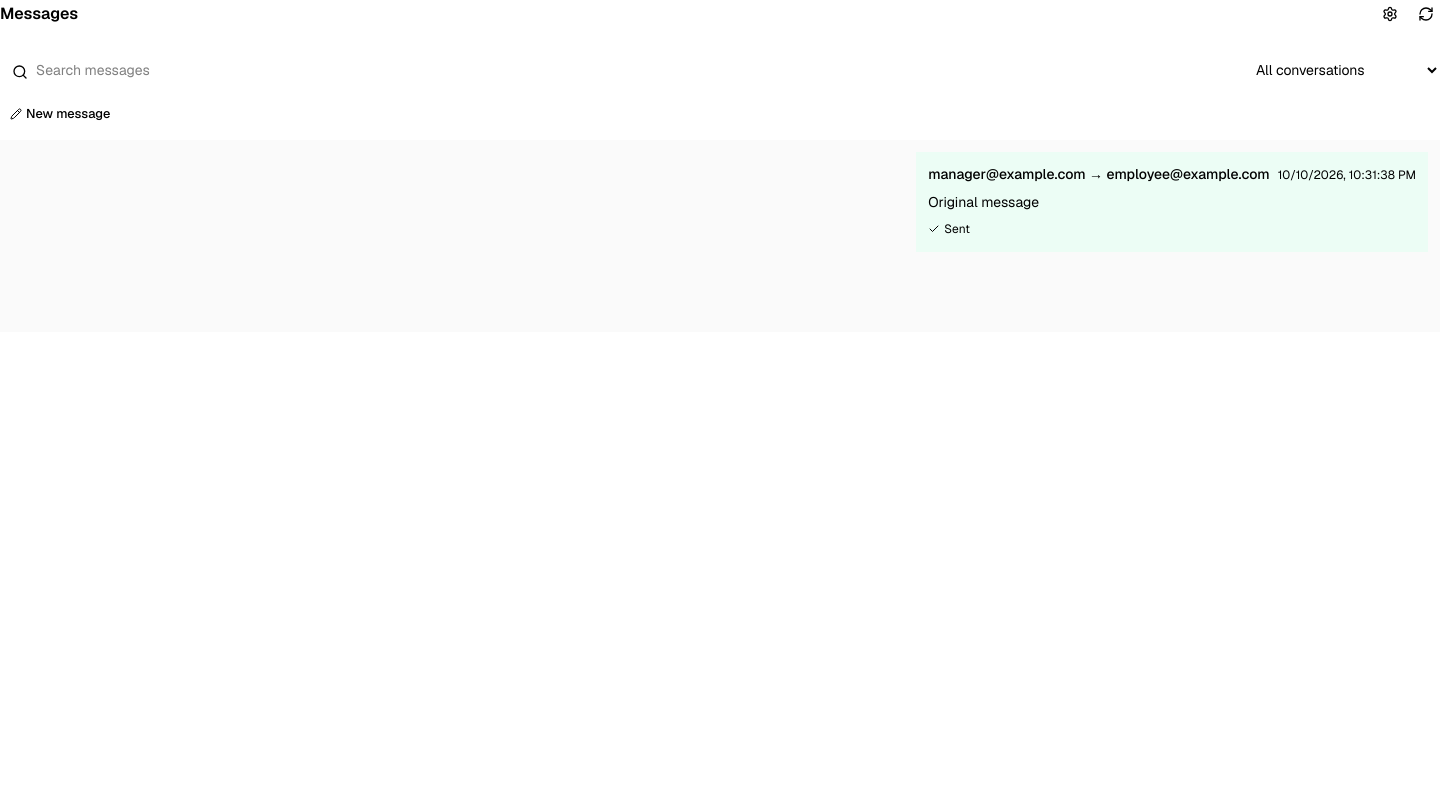
does not save edits until Save is clicked
Click the text "manager@example.com → employee@example.com".
click(1007, 174)  # box [928, 165, 1270, 183]
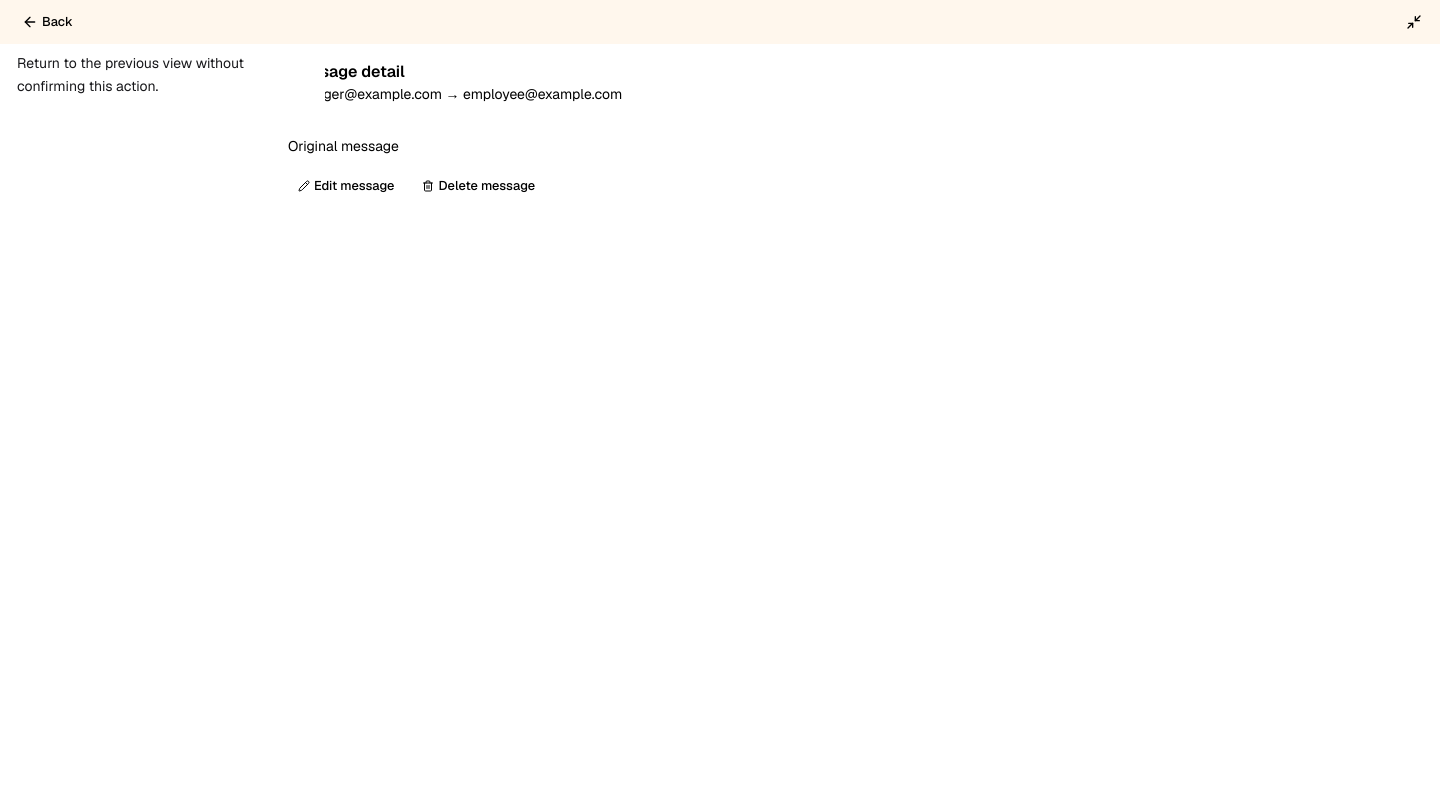
Click the button "Edit message".
click(346, 186)  # box [288, 172, 404, 200]
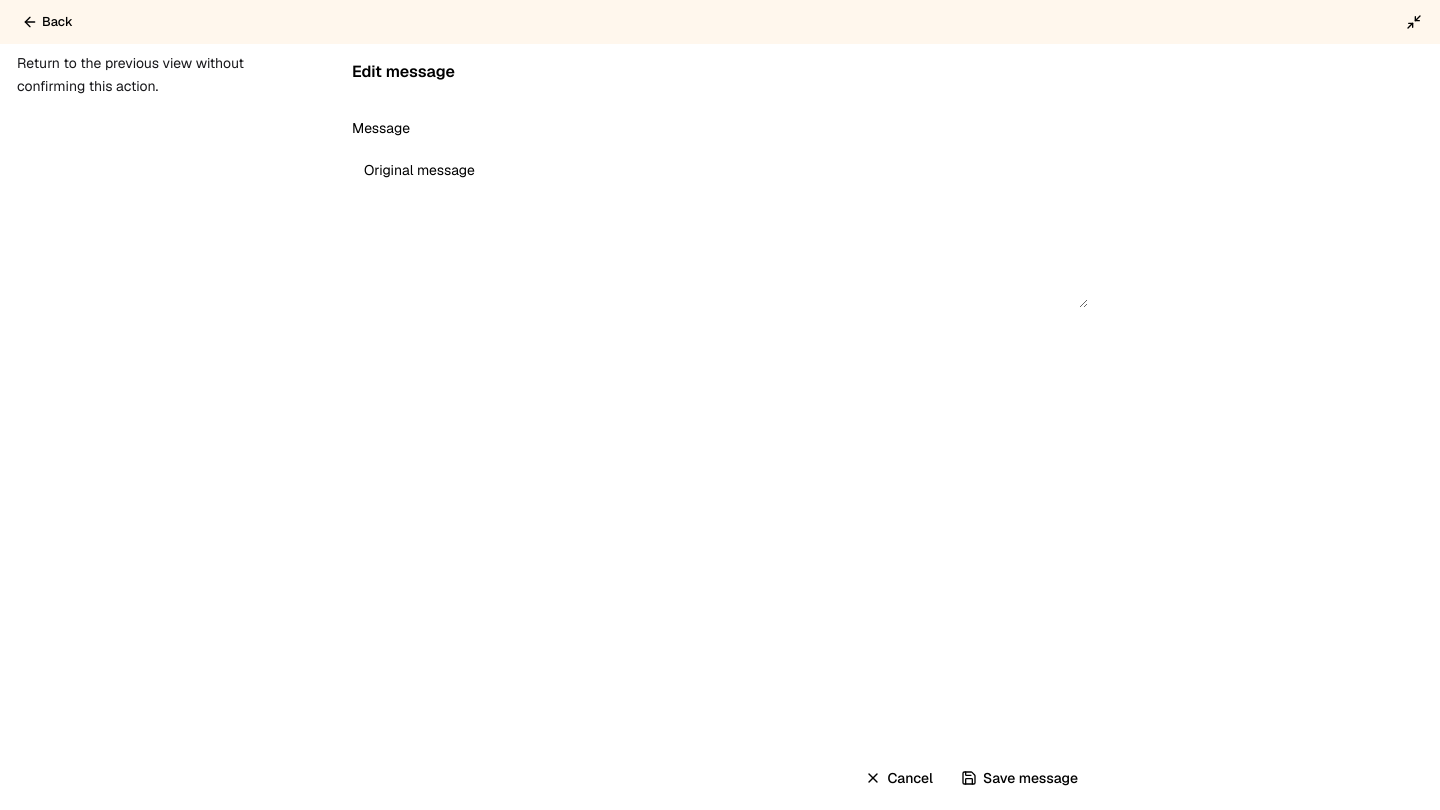
Replace the text in the text box with "Updated message" at (720, 228), box [352, 148, 1088, 308]
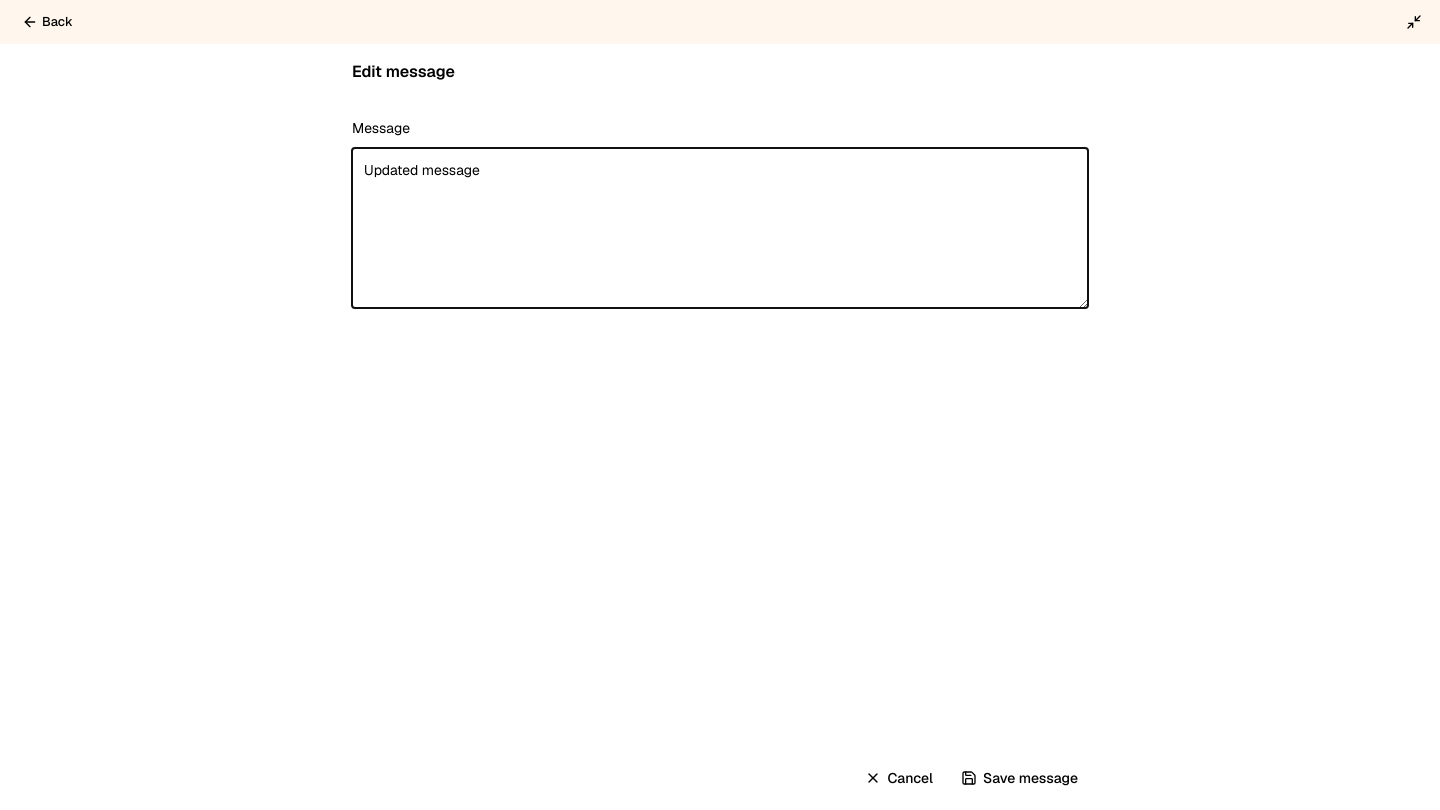
Click the button "Save message".
click(1020, 778)  # box [951, 762, 1088, 794]
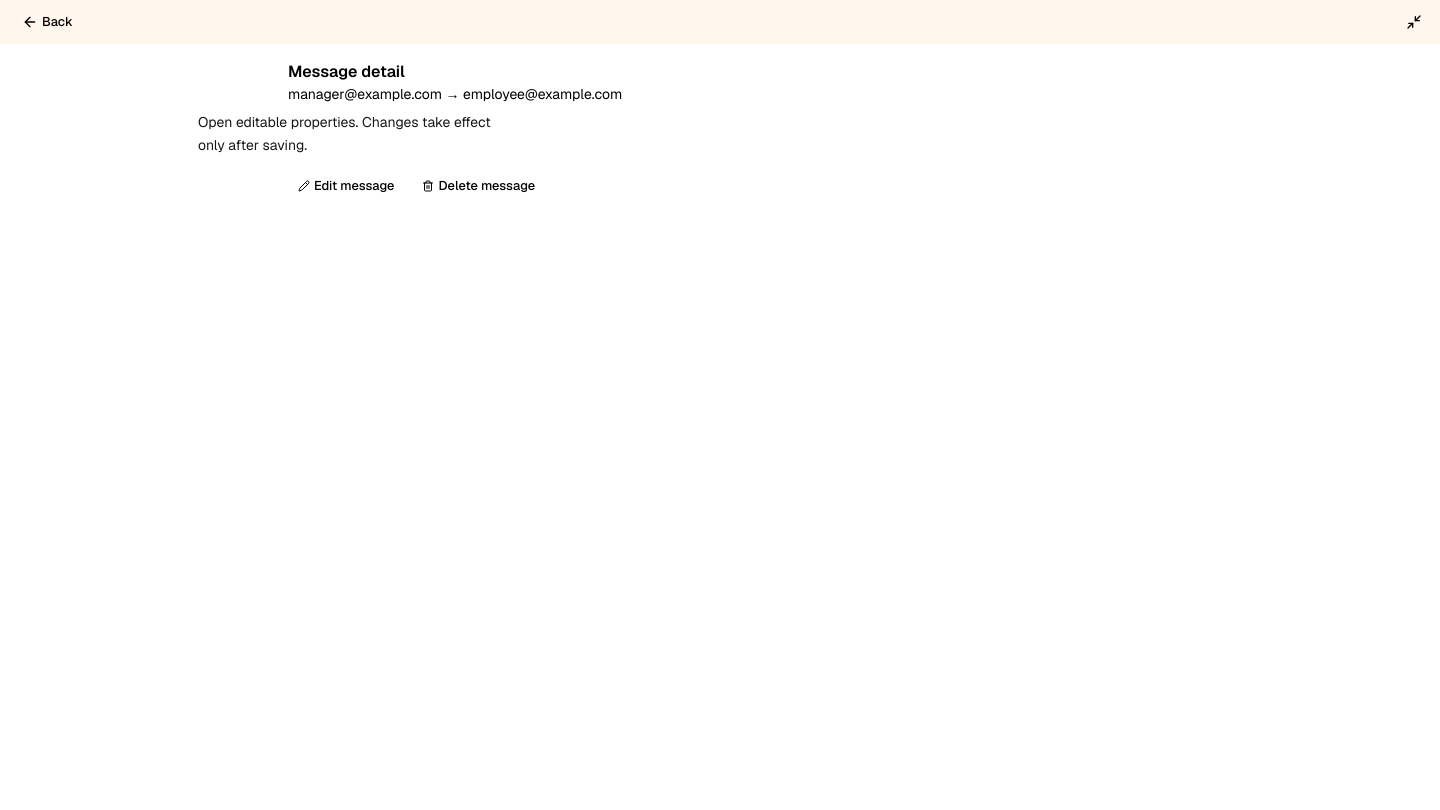
Check: the dialog "Message detail" is shown
